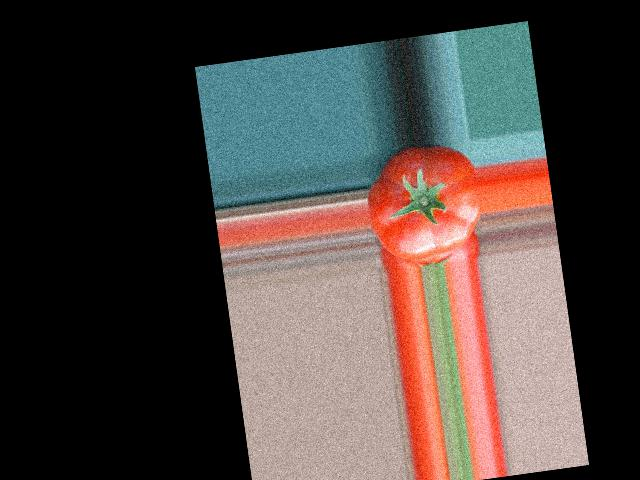tomato: (360, 140, 486, 265)
